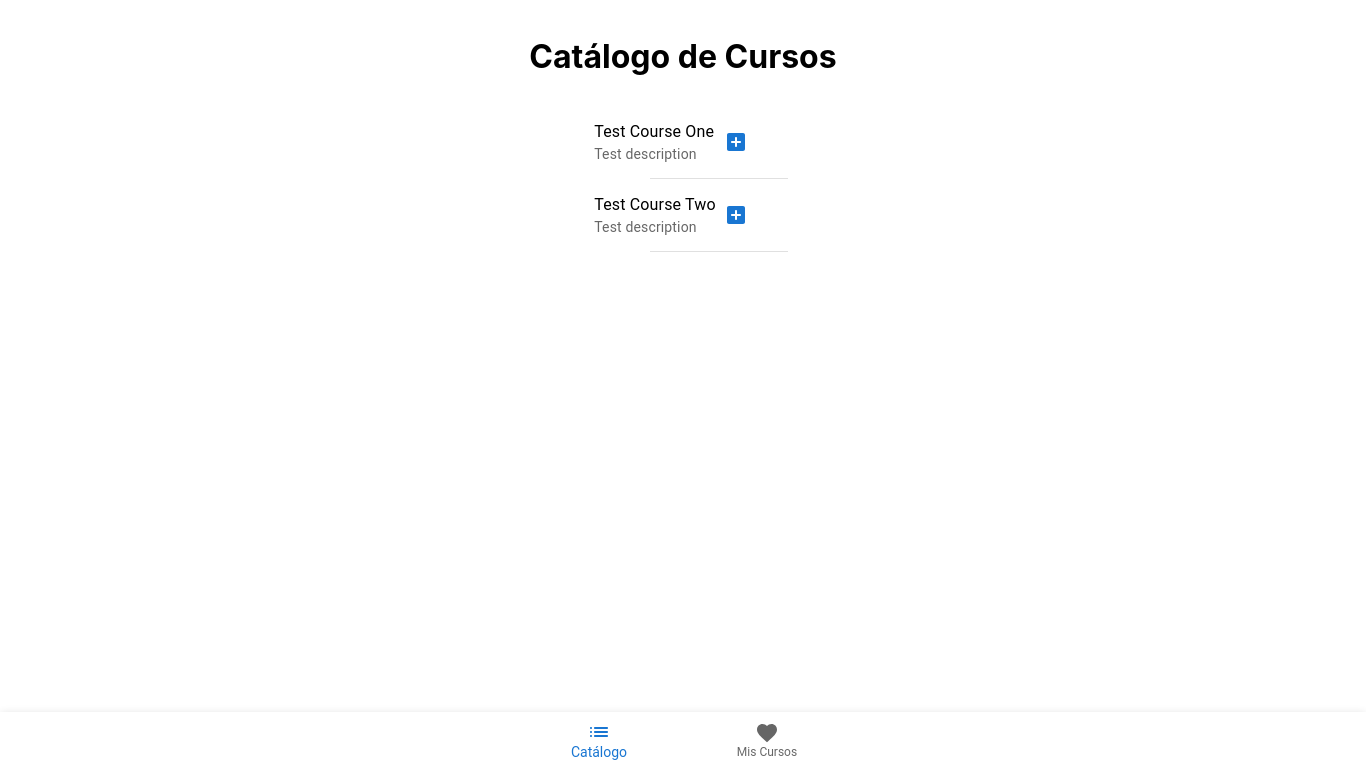
Test: Comportamiento de la Aplicación › Debe añadir un curso al currículum al hacer click en el botón +, deshabilitarlo y aumentar el conteo de mis cursos
Expected: the element that starts with "Test Course One" is shown, [594,122,756,235]
Click the button with test id "add-course-test-1": (736, 142) [716,122,756,162]
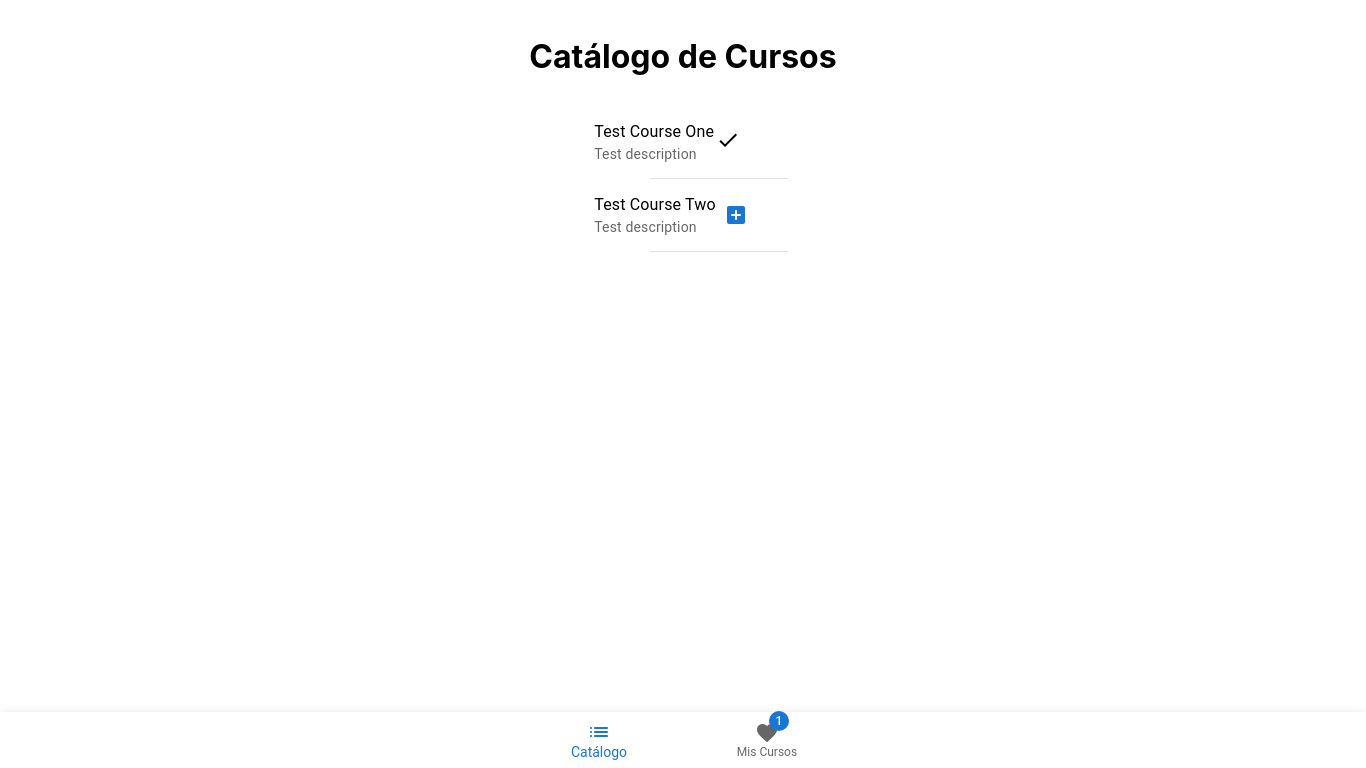
Now the icon with test id "added-course-test-1" is shown, box [716,128,740,152]
Now the button with test id "add-course-test-1" is gone
Now the text "1" is shown, box [769,711,789,731]
